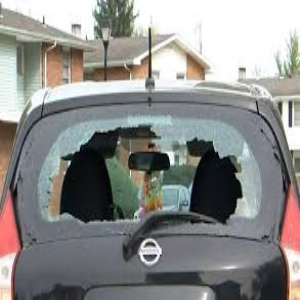rear_windshield_glass: (44, 121, 252, 221)
